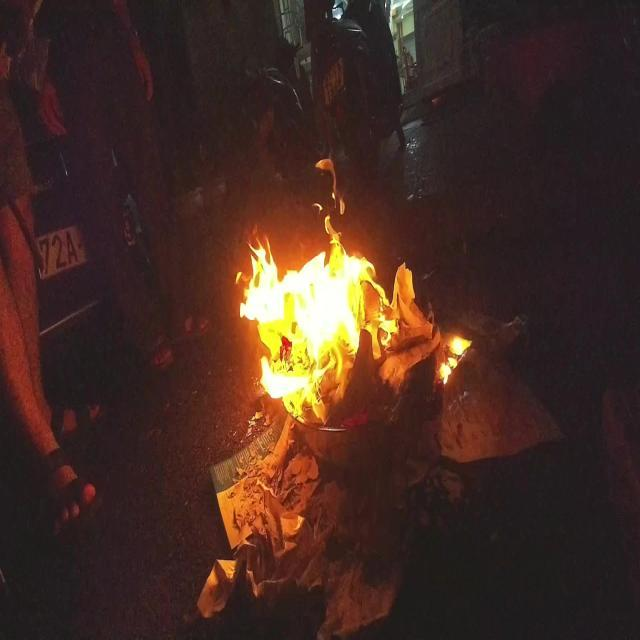Fire: (235, 161, 398, 421), (441, 336, 474, 386)
